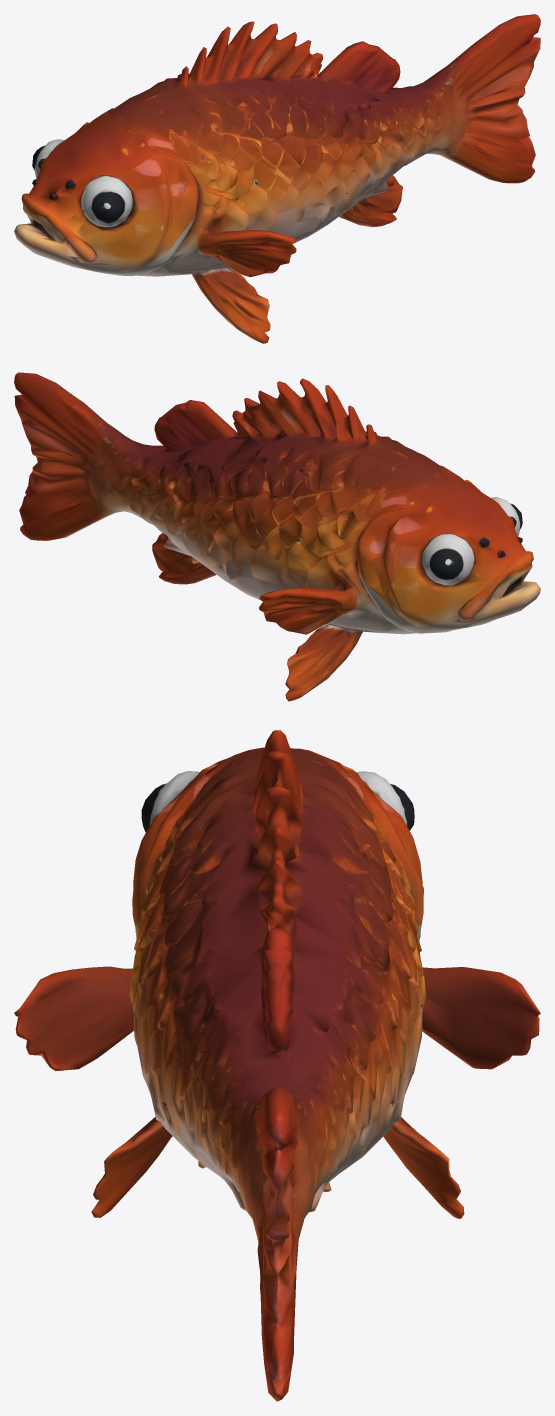
The model's file is fish-morokun.glb.
The picture shows the model from 3 angles, top to bottom: view 1: azimuth 30°, elevation 25°; view 2: azimuth 150°, elevation 25°; view 3: azimuth 270°, elevation 25°; orthographic projection. The views are drawn at different scales.
Visible parts, largest first — view 1: tripo_node_5c3d9689-1c89-4768-be5a-d72f556b4e0e; view 2: tripo_node_5c3d9689-1c89-4768-be5a-d72f556b4e0e; view 3: tripo_node_5c3d9689-1c89-4768-be5a-d72f556b4e0e.
Boxes of the visible parts, bbox=[...] form: tripo_node_5c3d9689-1c89-4768-be5a-d72f556b4e0e: bbox=[14, 14, 540, 343]; tripo_node_5c3d9689-1c89-4768-be5a-d72f556b4e0e: bbox=[14, 372, 540, 701]; tripo_node_5c3d9689-1c89-4768-be5a-d72f556b4e0e: bbox=[14, 730, 540, 1401].
Bounding box in the file's own units: 0.9954 × 0.5034 × 0.4807.
1 material, 1 textured.
